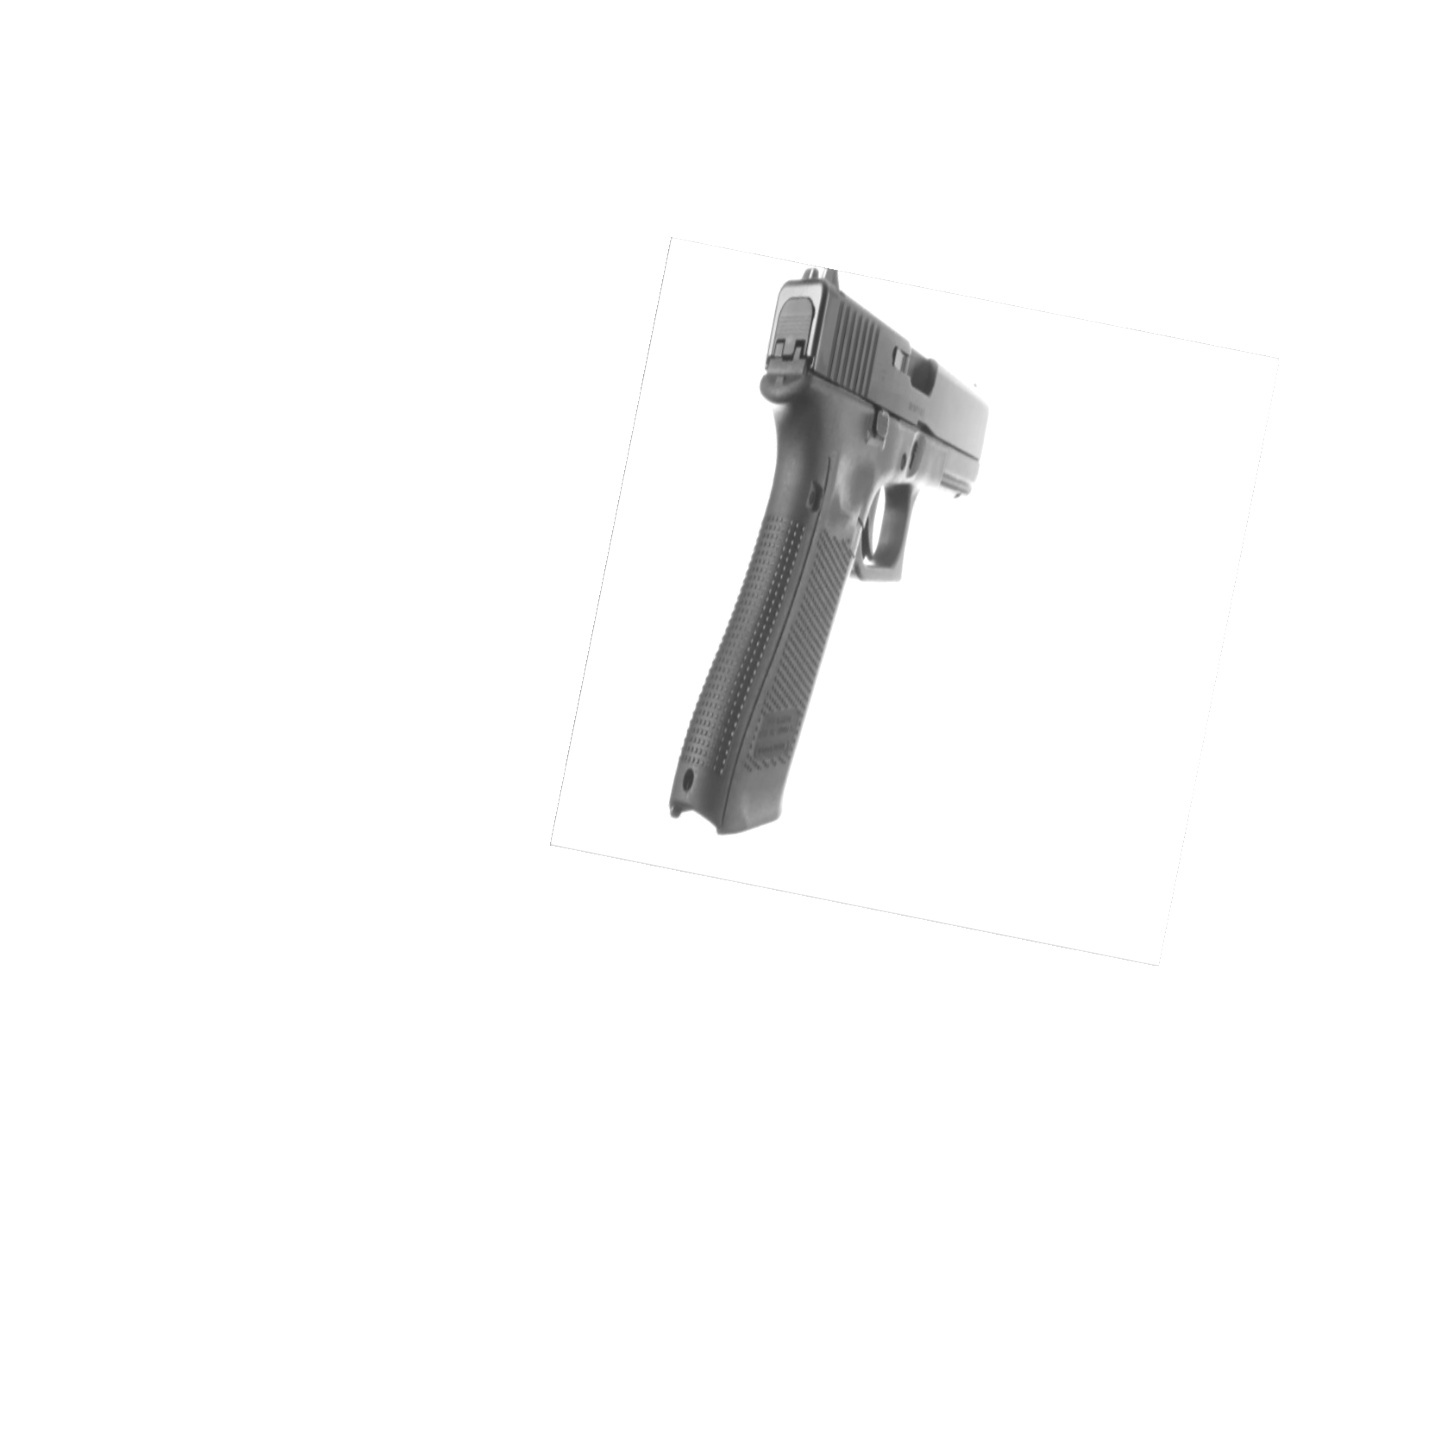gun: (658, 259, 998, 859)
